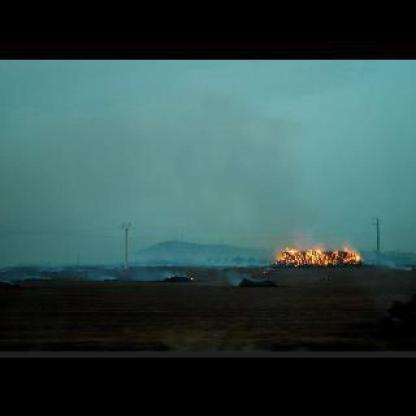fire: (274, 244, 364, 268)
